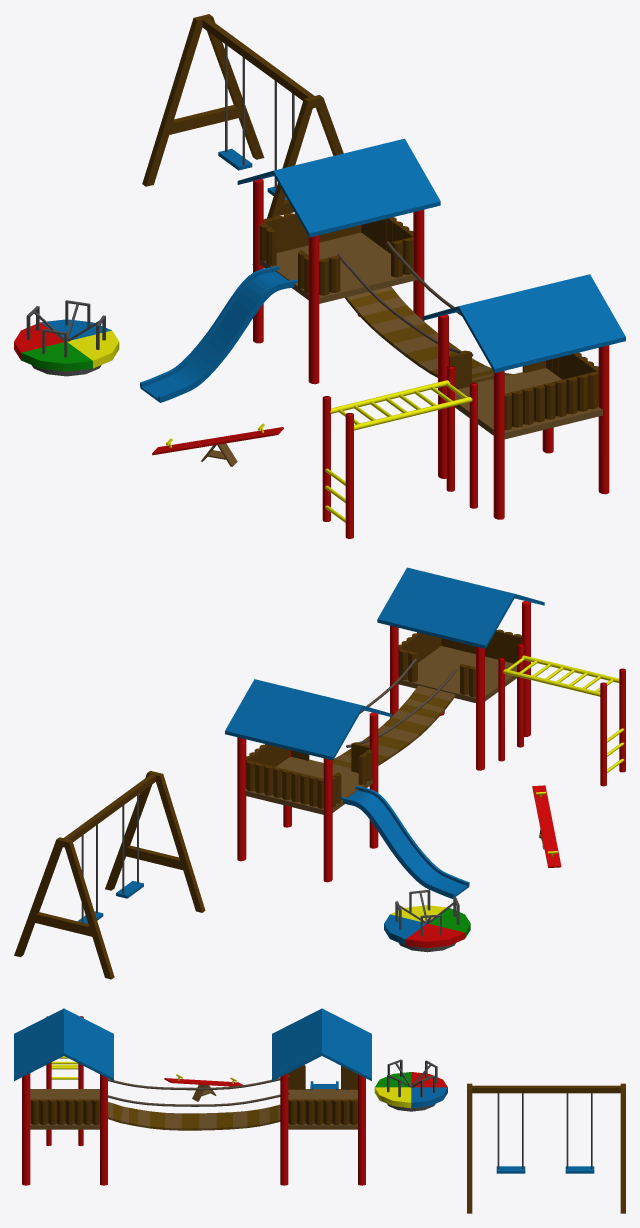
File: Playpark.fbx
3 renders of one model, top to bottom at view 1: azimuth 30°, elevation 25°; view 2: azimuth 150°, elevation 25°; view 3: azimuth 270°, elevation 25°, orthographic. The views are drawn at different scales.
Visible parts, largest first — view 1: PlayPark1; view 2: PlayPark1; view 3: PlayPark1.
Part boxes in pixels (x1,y1,x2,y2): PlayPark1: (14, 14, 625, 538); PlayPark1: (14, 567, 625, 979); PlayPark1: (14, 1008, 625, 1213).
Bounding box in the file's own units: 157 × 76.75 × 303.
